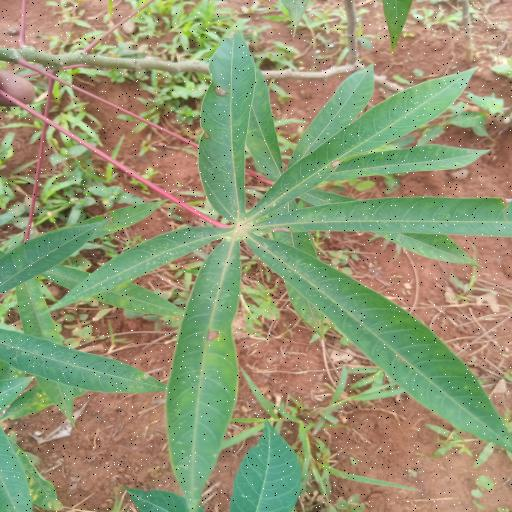Cassava_Brown_Leaf_Spot: (52, 28, 512, 500)
